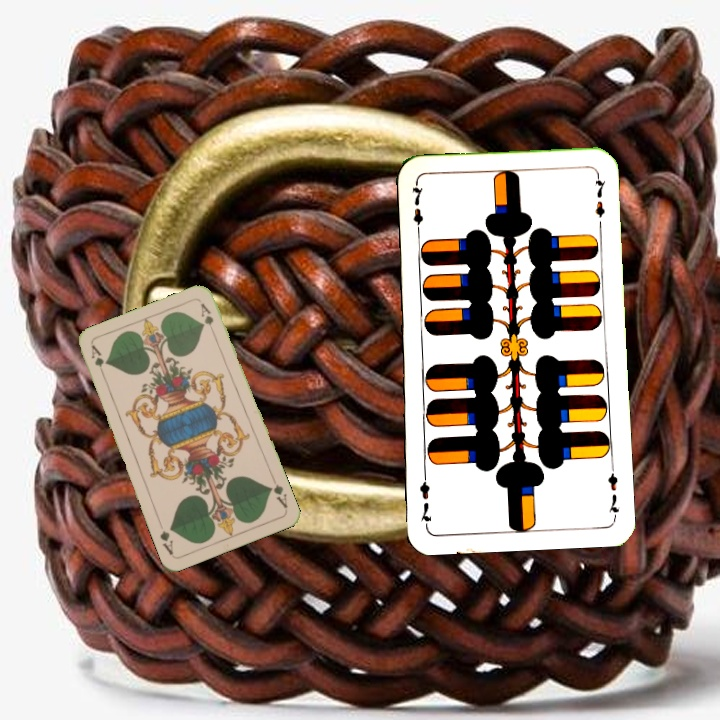E7: (604, 461, 623, 520), (408, 180, 426, 239)
GA: (265, 473, 290, 511), (87, 341, 107, 381)
